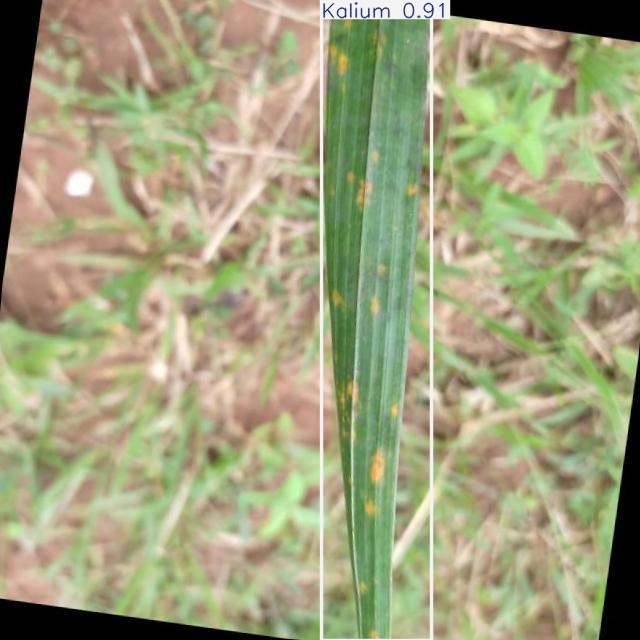Kalium: (322, 0, 432, 640)
